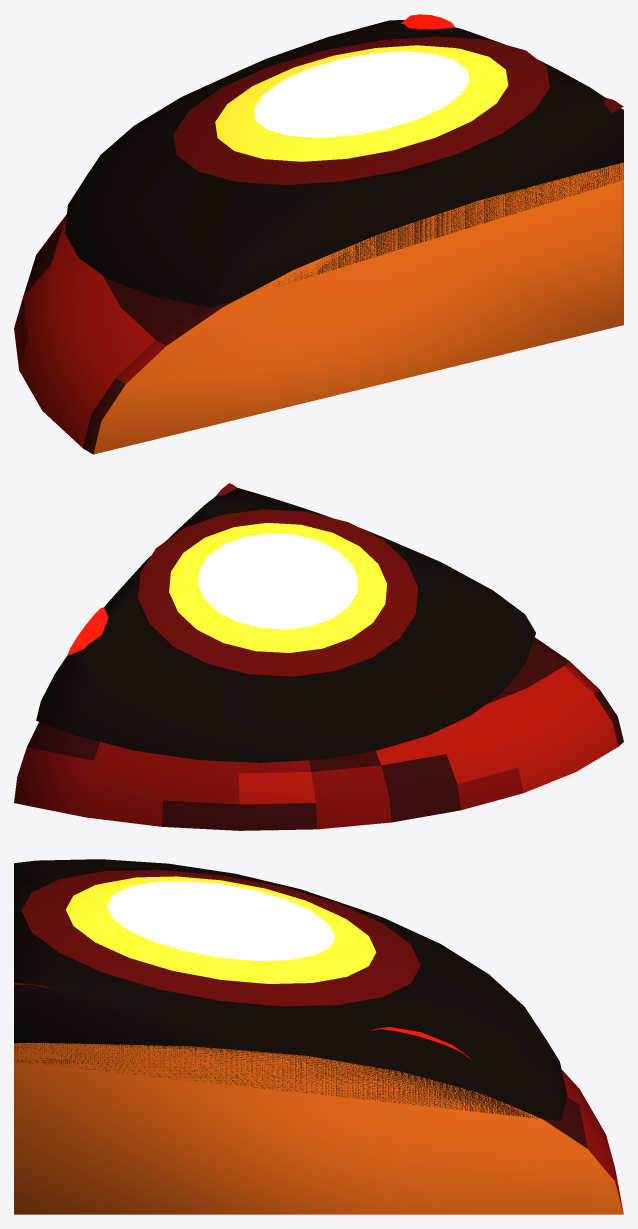
Rendered from newshe-191.glb.
The picture shows the model from 3 angles, top to bottom: view 1: azimuth 30°, elevation 25°; view 2: azimuth 150°, elevation 25°; view 3: azimuth 270°, elevation 25°; orthographic projection. The views are drawn at different scales.
Visible parts, largest first — view 1: newshe-191; view 2: newshe-191; view 3: newshe-191.
Boxes of the visible parts, x1,y1,x2,y2 form: newshe-191: (14, 14, 623, 454); newshe-191: (14, 483, 623, 830); newshe-191: (14, 859, 623, 1214).
Bounding box in the file's own units: 1.43 × 0.5694 × 1.35.
